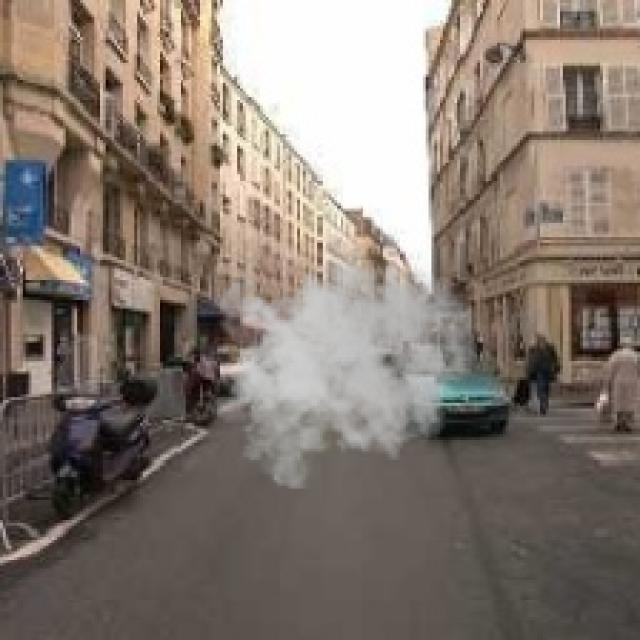smoke: (211, 232, 480, 488)
